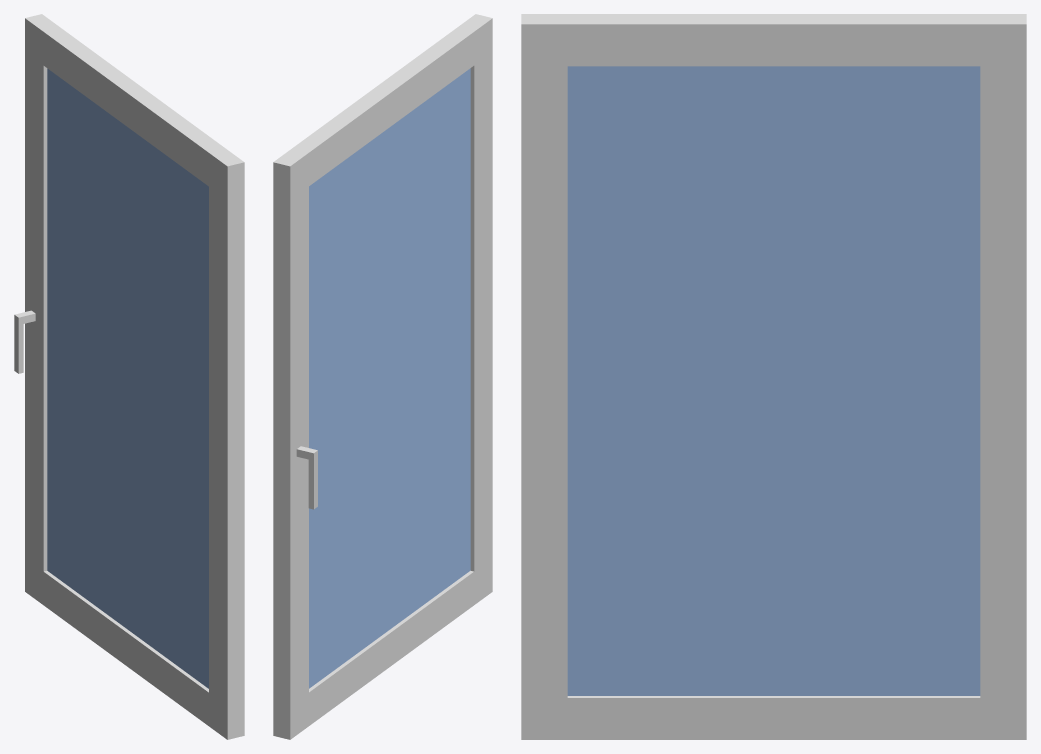
File: window_1.fbx
3 renders of one model, left to right at view 1: azimuth 30°, elevation 25°; view 2: azimuth 150°, elevation 25°; view 3: azimuth 270°, elevation 25°, orthographic. The views are drawn at different scales.
Parts seen in each view (by area): view 1: Window_1, Handle; view 2: Window_1, Handle; view 3: Window_1.
Part boxes in pixels (x1,y1,x2,y2): Window_1: [25, 14, 244, 739]; Handle: [14, 310, 35, 373]; Window_1: [273, 14, 492, 739]; Handle: [296, 446, 317, 509]; Window_1: [521, 14, 1026, 739].
Bounding box in the file's own units: 10 × 161 × 103.
